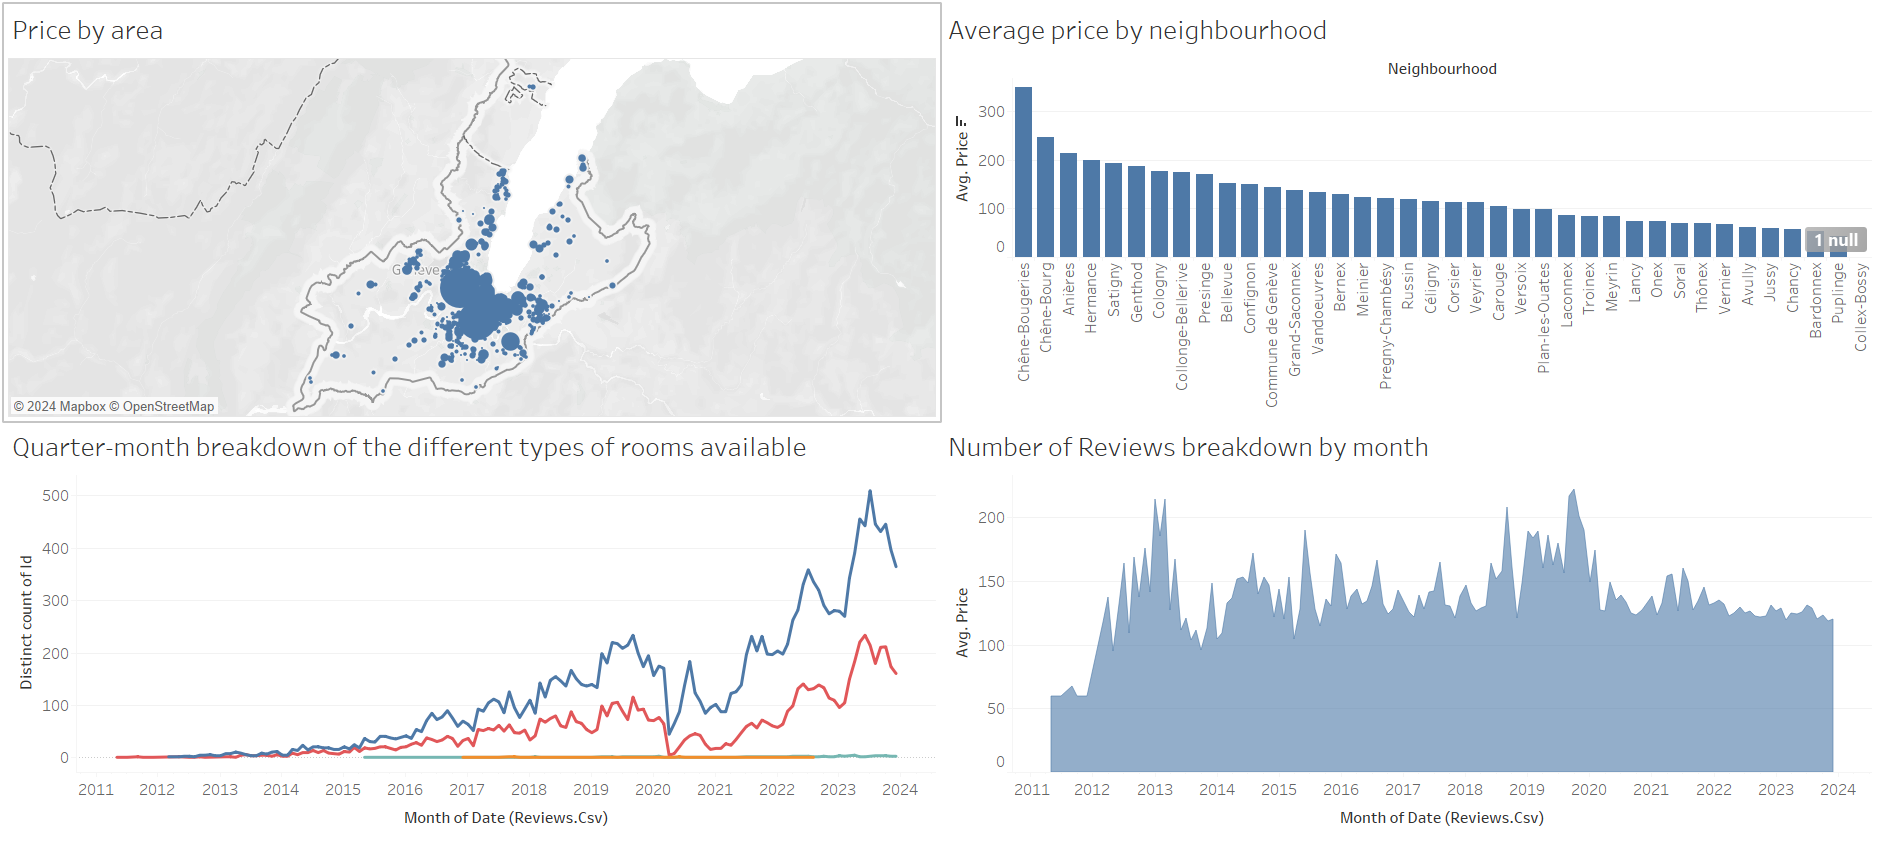

The page's visual inventory and layout, read from the dashboard file:
{"tool":"tableau","page":{"name":"Dashboard 1","canvas":[1000,1000],"units":"permille","ordinal":0},"visuals":[{"type":"worksheet","title":"Sheet 1","mark":"Automatic","rows":["latitude"],"cols":["longitude"],"box":[5,9.4,495,490]},{"type":"worksheet","title":"Sheet 3","mark":"Automatic","rows":["price"],"cols":["neighbourhood"],"box":[500,9.4,495,490]},{"type":"worksheet","title":"Sheet 2","mark":"Automatic","rows":["id"],"cols":["date (reviews.csv)"],"box":[5,499.4,495,491.2]},{"type":"worksheet","title":"Sheet 4","mark":"Area","rows":["price"],"cols":["date (reviews.csv)"],"box":[500,499.4,495,491.2]}]}

Visuals, with their boxes on the dashboard's canvas, which has no fixed pixel size, in thousandths of its width and height (x1, y1, x2, y2). These are canvas units, not pixel positions in the 1881x847 screenshot, which may show the page scaled, cropped or inside an application window:
"Sheet 1" worksheet: detection(5, 9, 500, 499)
"Sheet 3" worksheet: detection(500, 9, 995, 499)
"Sheet 2" worksheet: detection(5, 499, 500, 991)
"Sheet 4" worksheet (Area marks): detection(500, 499, 995, 991)
